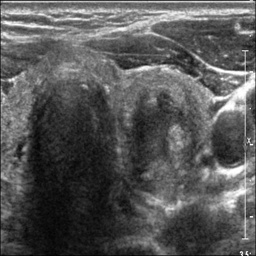mass: (117, 72, 196, 200)
